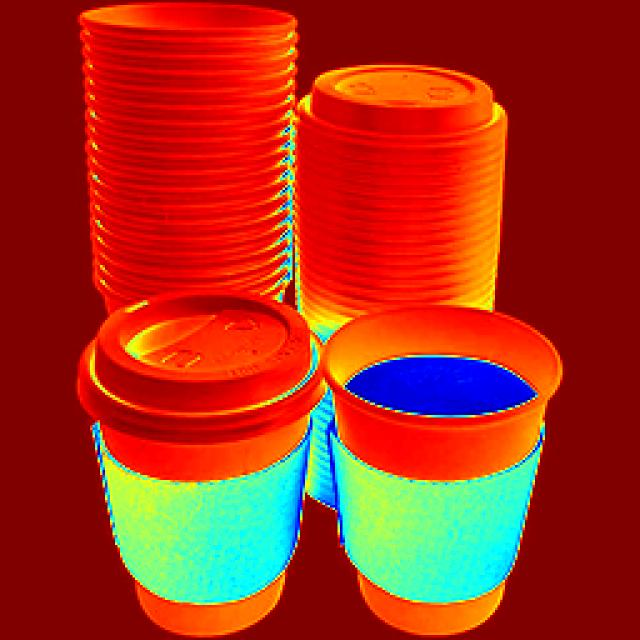Paper Cups: (304, 298, 564, 640), (78, 269, 316, 623), (75, 5, 296, 282), (298, 82, 504, 312)
